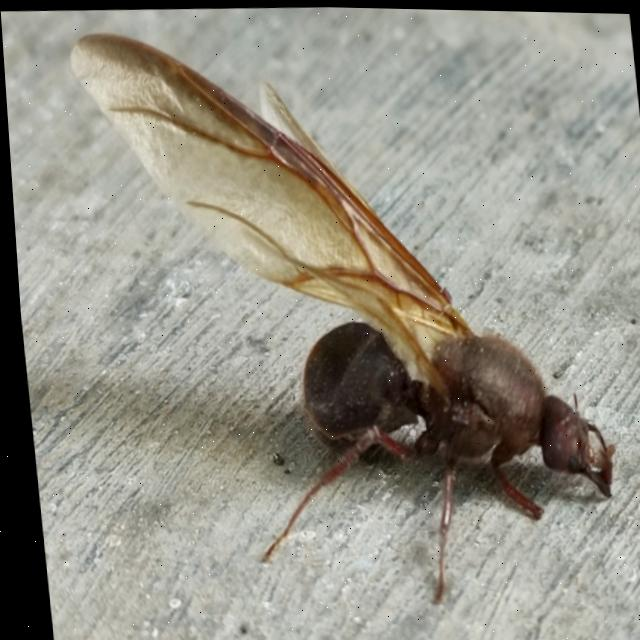Dead-Female-Alate: (64, 15, 623, 618)
